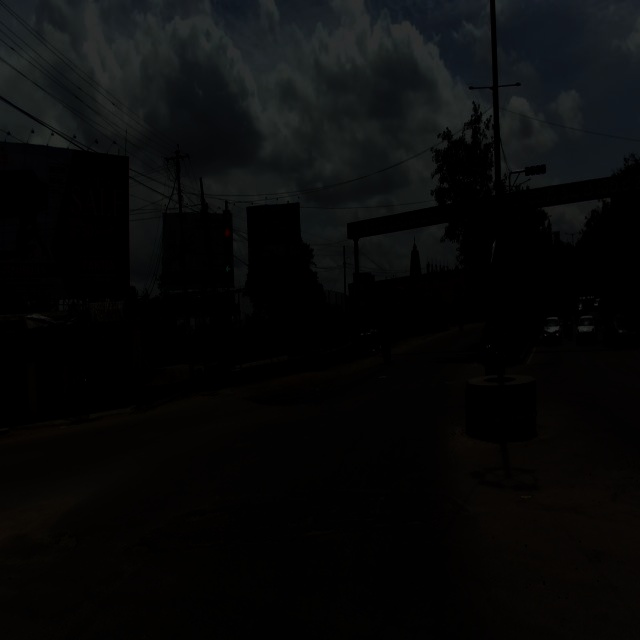Pothole: (346, 488, 438, 530), (276, 501, 334, 544), (176, 498, 243, 530), (48, 517, 86, 569), (124, 526, 152, 567)
